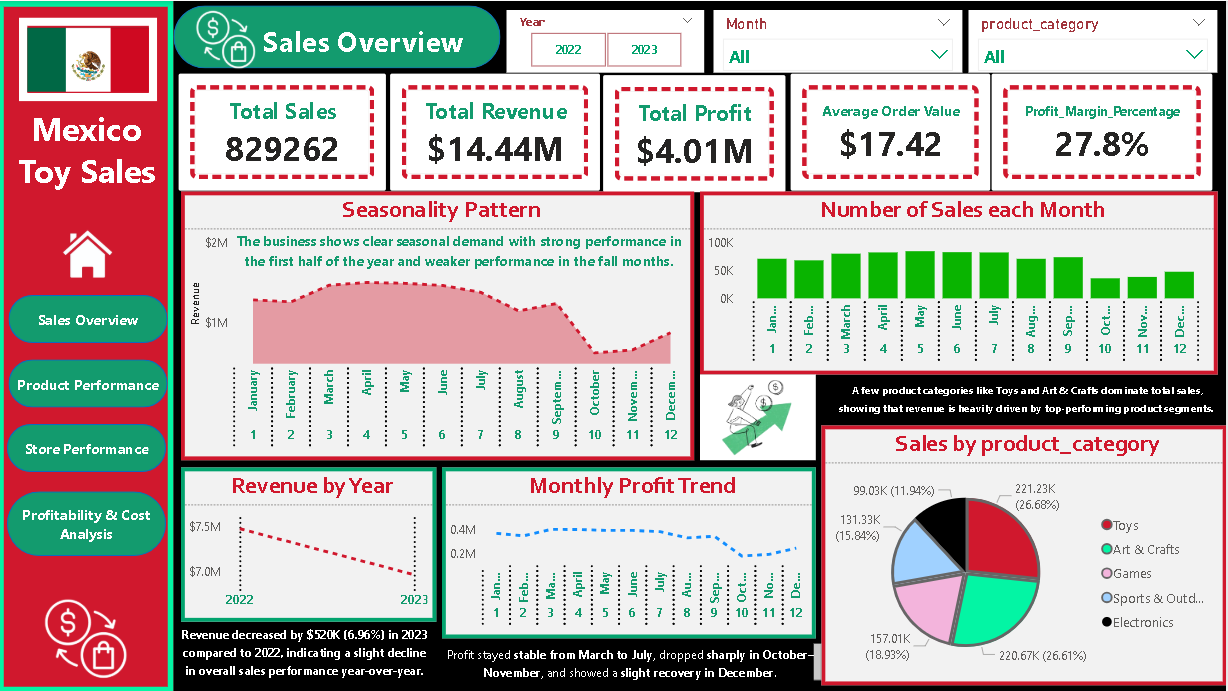

This screenshot's page, from the dashboard's own definition file:
{"tool":"powerbi","page":{"name":"Sales Overview","canvas":[1280,720],"ordinal":1},"visuals":[{"type":"shape","box":[0,0,182.9,720.5],"z":0},{"type":"image","box":[21.9,17.2,143.8,87.5],"z":1000},{"type":"shape","box":[6.3,104.7,171.9,98.5],"z":2000},{"type":"shape","box":[182.9,4.7,340.7,65.6],"z":3000},{"type":"image","box":[25,615.8,132.9,96.9],"z":4000},{"type":"cardVisual","fields":{"Data":["final (2).Total_Revenue"]},"box":[409.5,70.3,239.1,132.9],"z":5000},{"type":"cardVisual","fields":{"Data":["final (2).Total_Profit"]},"box":[636.1,70.3,215.7,132.9],"z":6000},{"type":"cardVisual","fields":{"Data":["final (2).Total Number of Sales"]},"box":[182.9,70.3,239.1,132.9],"z":7000},{"type":"cardVisual","fields":{"Data":["final (2).Average Order Value"]},"box":[836.2,70.3,220.4,132.9],"z":8000},{"type":"cardVisual","fields":{"Data":["final (2).Profit_Margin_Percentage"]},"box":[1040.9,70.3,239.1,132.9],"z":9000},{"type":"stackedAreaChart","title":"Seasonality Pattern","fields":{"Category":["final (2).month_num","final (2).month_name"],"Y":["final (2).Total_Revenue"]},"box":[190.7,198.5,534.5,279.8],"z":10000},{"type":"lineChart","title":"Revenue by Year","fields":{"Category":["final (2).sale_year"],"Y":["final (2).Total_Revenue"]},"box":[190.7,486.1,265.7,161],"z":11000},{"type":"textbox","box":[236,234.4,489.2,79.7],"z":12000},{"type":"pieChart","title":"Sales by product_category","fields":{"Y":["CountNonNull(final (2).sale_id)"],"Category":["final (2).product_category"]},"box":[858.1,442.3,422,270.4],"z":13000},{"type":"textbox","box":[182.9,644,273.5,76.6],"z":14000},{"type":"slicer","fields":{"Values":["final (2).sale_year"]},"box":[529.9,9.4,206.3,65.6],"z":15000},{"type":"slicer","fields":{"Values":["final (2).month_name"]},"box":[745.5,9.4,259.5,65.6],"z":16000},{"type":"textbox","box":[862.8,389.2,417.3,53.1],"z":17000},{"type":"slicer","fields":{"Values":["final (2).product_category"]},"box":[1011.3,9.4,259.5,65.6],"z":18000},{"type":"lineChart","title":"Monthly Profit Trend","fields":{"Category":["final (2).month_num","final (2).month_name"],"Y":["Sum(final (2).profit)"]},"box":[462.6,486.1,389.2,178.2],"z":19000},{"type":"columnChart","title":"Number of Sales each Month","fields":{"Y":["final (2).Number of Sales"],"Category":["final (2).month_num","final (2).month_name"]},"box":[731.5,198.5,539.2,190.7],"z":20000},{"type":"image","box":[731.5,389.2,120.4,89.1],"z":21000},{"type":"textbox","box":[462.6,664.3,400.1,56.3],"z":22000},{"type":"image","box":[178.2,4.7,118.8,70.3],"z":23000},{"type":"shape","box":[10.9,306.3,165.7,50],"z":24000},{"type":"shape","box":[10.9,373.6,165.7,50],"z":25000},{"type":"actionButton","box":[12.5,378.2,165.7,40.6],"z":26000},{"type":"shape","box":[9.4,440.8,165.7,50],"z":27000},{"type":"actionButton","box":[20.3,445.5,143.8,40.6],"z":28000},{"type":"shape","box":[9.4,511.1,165.7,67.2],"z":29000},{"type":"actionButton","box":[20.3,512.7,143.8,65.6],"z":30000},{"type":"image","box":[59.4,225.1,68.8,81.3],"z":31000}]}

Visuals, with their boxes in screenshot pixels (x1, y1, x2, y2), scaled from the page's 1280x720 canvas onto the 1228x691 screenshot:
shape: x1=0 y1=0 x2=175 y2=690
image: x1=21 y1=17 x2=159 y2=100
shape: x1=6 y1=100 x2=171 y2=195
shape: x1=175 y1=5 x2=502 y2=67
image: x1=24 y1=591 x2=151 y2=684
cardVisual - final (2).Total_Revenue: x1=393 y1=67 x2=622 y2=195
cardVisual - final (2).Total_Profit: x1=610 y1=67 x2=817 y2=195
cardVisual - final (2).Total Number of Sales: x1=175 y1=67 x2=405 y2=195
cardVisual - final (2).Average Order Value: x1=802 y1=67 x2=1014 y2=195
cardVisual - final (2).Profit_Margin_Percentage: x1=999 y1=67 x2=1227 y2=195
"Seasonality Pattern" stackedAreaChart: x1=183 y1=191 x2=696 y2=459
"Revenue by Year" lineChart: x1=183 y1=467 x2=438 y2=621
textbox: x1=226 y1=225 x2=696 y2=301
"Sales by product_category" pieChart: x1=823 y1=424 x2=1227 y2=684
textbox: x1=175 y1=618 x2=438 y2=690
slicer - final (2).sale_year: x1=508 y1=9 x2=706 y2=72
slicer - final (2).month_name: x1=715 y1=9 x2=964 y2=72
textbox: x1=828 y1=374 x2=1227 y2=424
slicer - final (2).product_category: x1=970 y1=9 x2=1219 y2=72
"Monthly Profit Trend" lineChart: x1=444 y1=467 x2=817 y2=638
"Number of Sales each Month" columnChart: x1=702 y1=191 x2=1219 y2=374
image: x1=702 y1=374 x2=817 y2=459
textbox: x1=444 y1=638 x2=828 y2=690
image: x1=171 y1=5 x2=285 y2=72
shape: x1=10 y1=294 x2=169 y2=342
shape: x1=10 y1=359 x2=169 y2=407
actionButton: x1=12 y1=363 x2=171 y2=402
shape: x1=9 y1=423 x2=168 y2=471
actionButton: x1=19 y1=428 x2=157 y2=467
shape: x1=9 y1=491 x2=168 y2=555
actionButton: x1=19 y1=492 x2=157 y2=555
image: x1=57 y1=216 x2=123 y2=294
